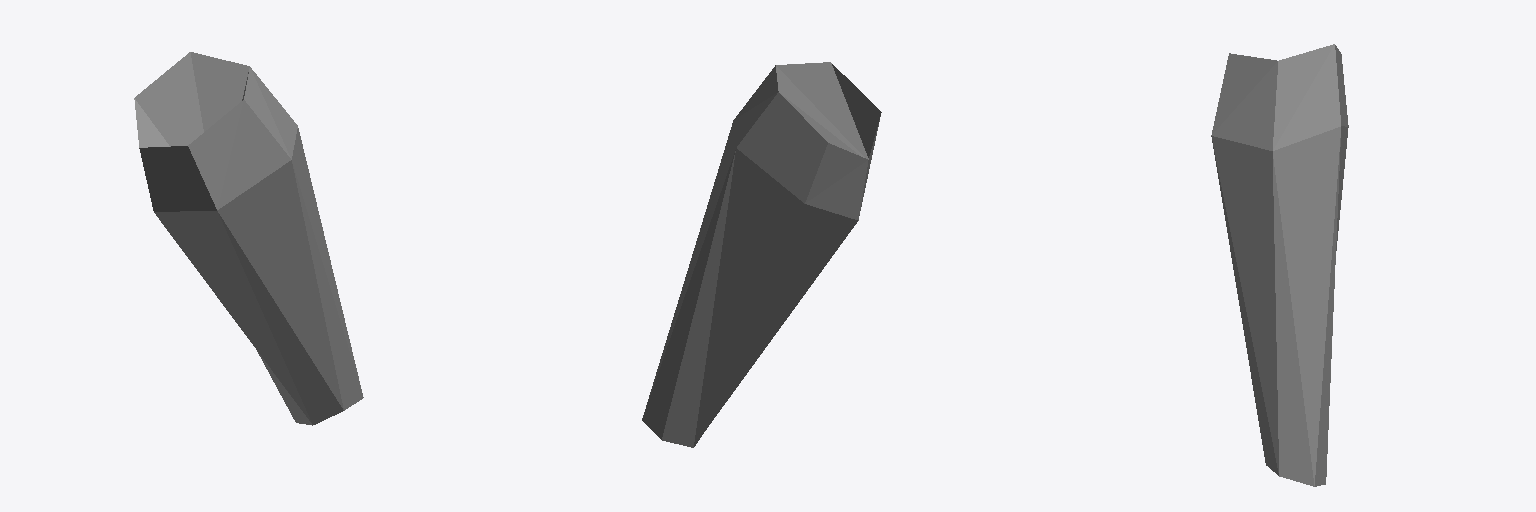
The model's file is BrazoIzq.obj.
The picture shows the model from 3 angles: view 1: azimuth 30°, elevation 25°; view 2: azimuth 150°, elevation 25°; view 3: azimuth 270°, elevation 25°; orthographic projection.
Bounding box in the file's own units: 5 × 8.5 × 2.73.